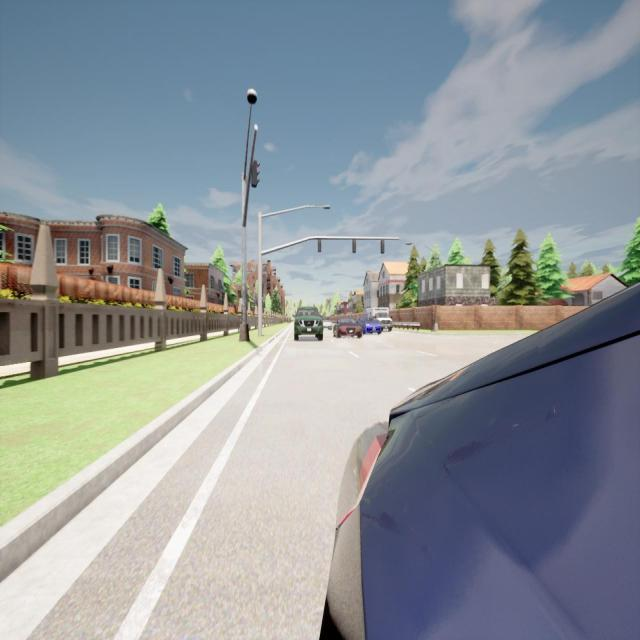Vehicle: (330, 283, 639, 637), (292, 306, 324, 342), (364, 308, 392, 332), (333, 318, 364, 339), (358, 318, 381, 335), (323, 320, 332, 330)
traffic_light: (251, 161, 260, 188), (380, 238, 385, 254), (318, 238, 322, 253), (352, 238, 356, 253)
